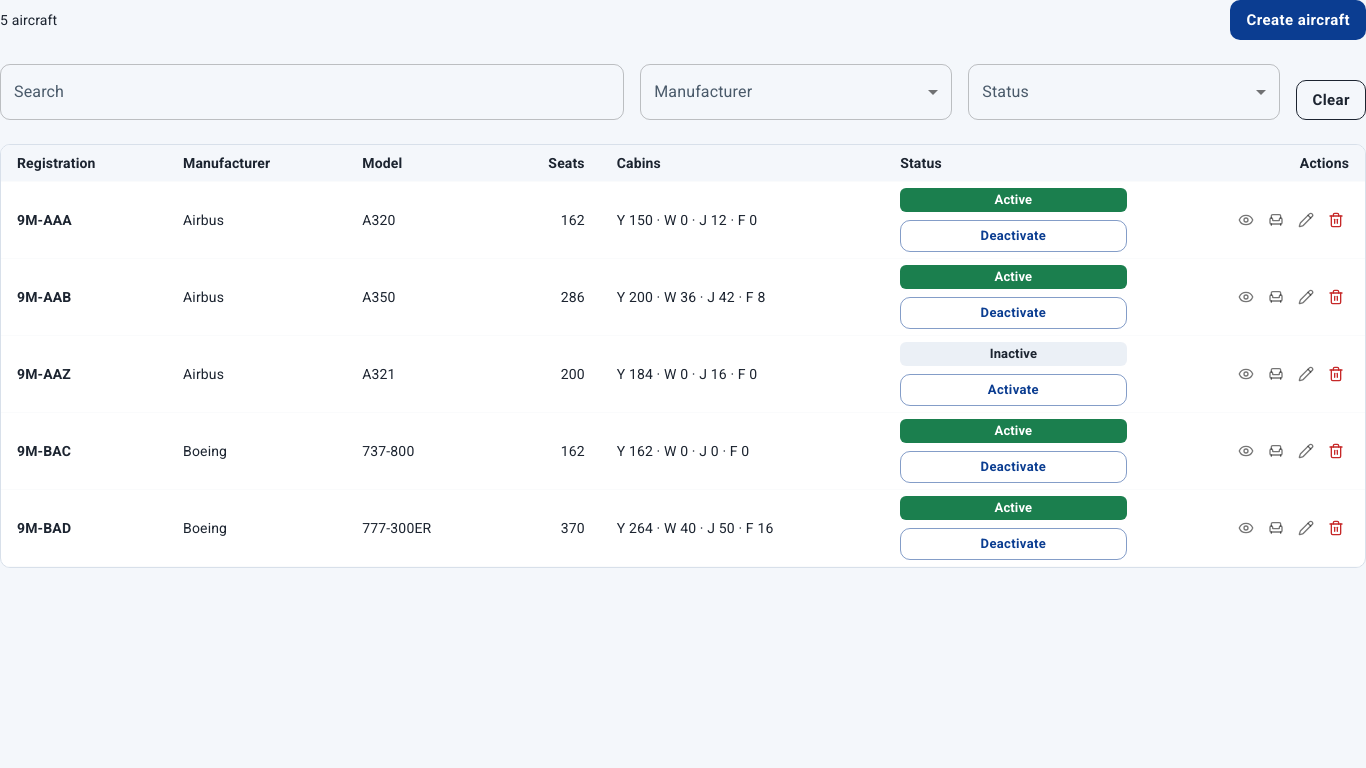
Scenario: AdminAircraftView › edits an aircraft and can cancel the dialog
Expected: the text "9M-AAA" is shown, [17,212,72,228]
Click the button named "Edit 9M-AAA".
click(1306, 220)  # box [1293,207,1319,233]
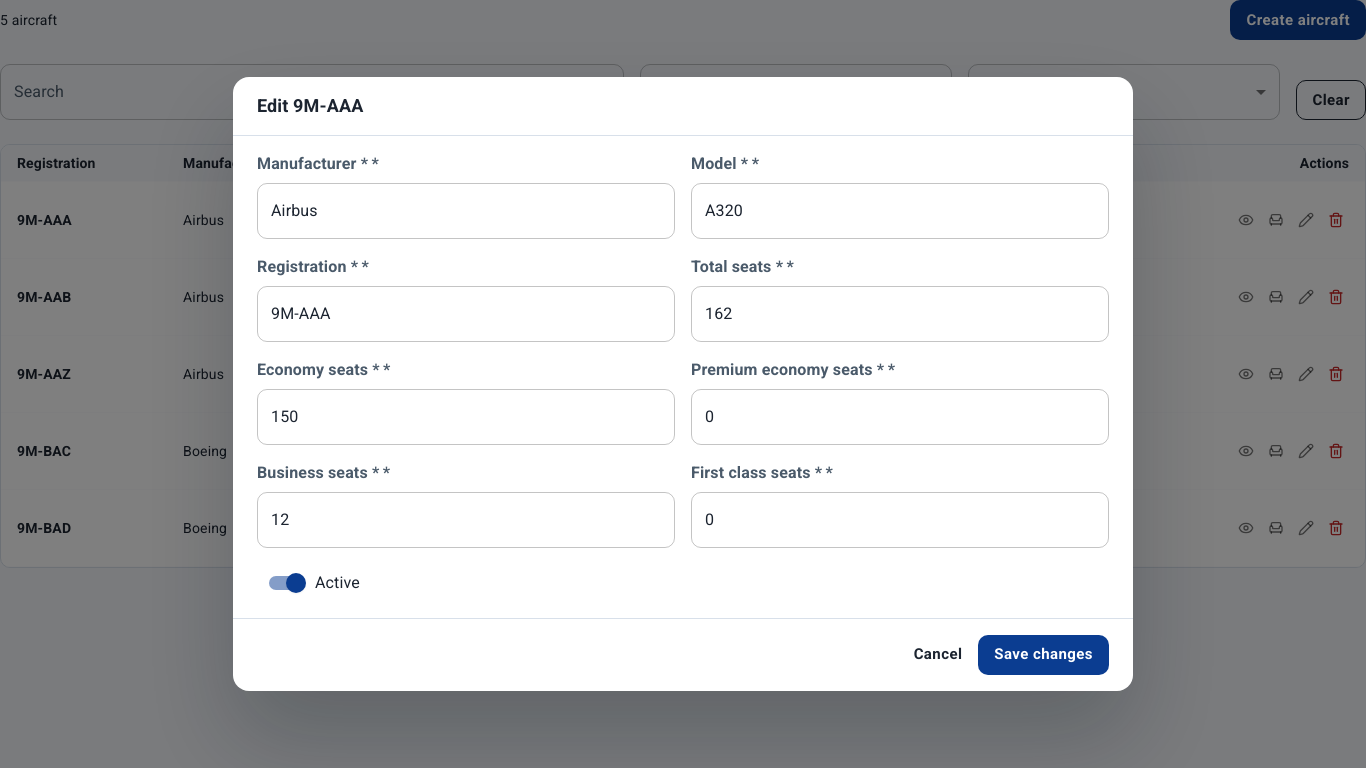
Expected: the heading "Edit 9M-AAA" is shown, [257,95,363,116]
Type "A320neo" into the field with placeholder "A320".
click(900, 211); type("A320neo")  # box [691,183,1109,239]
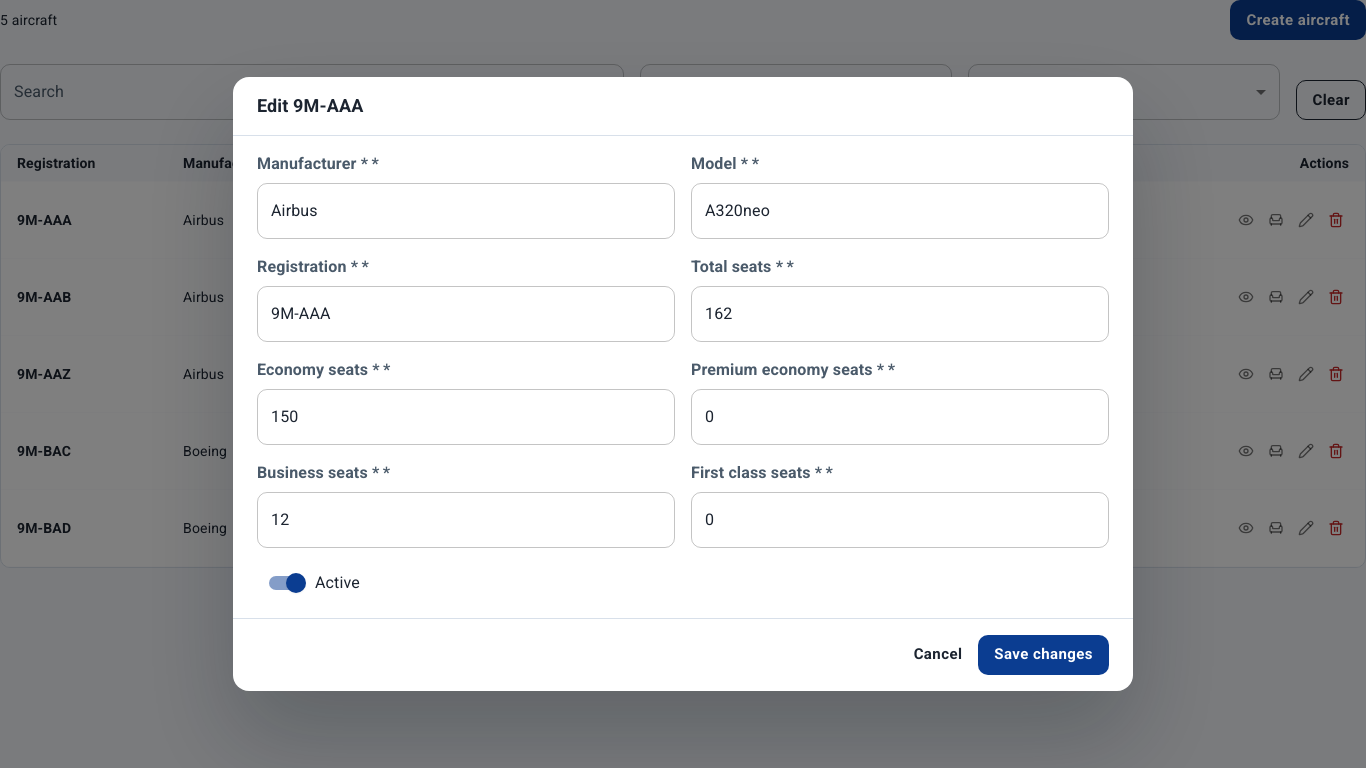
Click the button "Save changes".
click(1044, 655)  # box [978,635,1109,675]
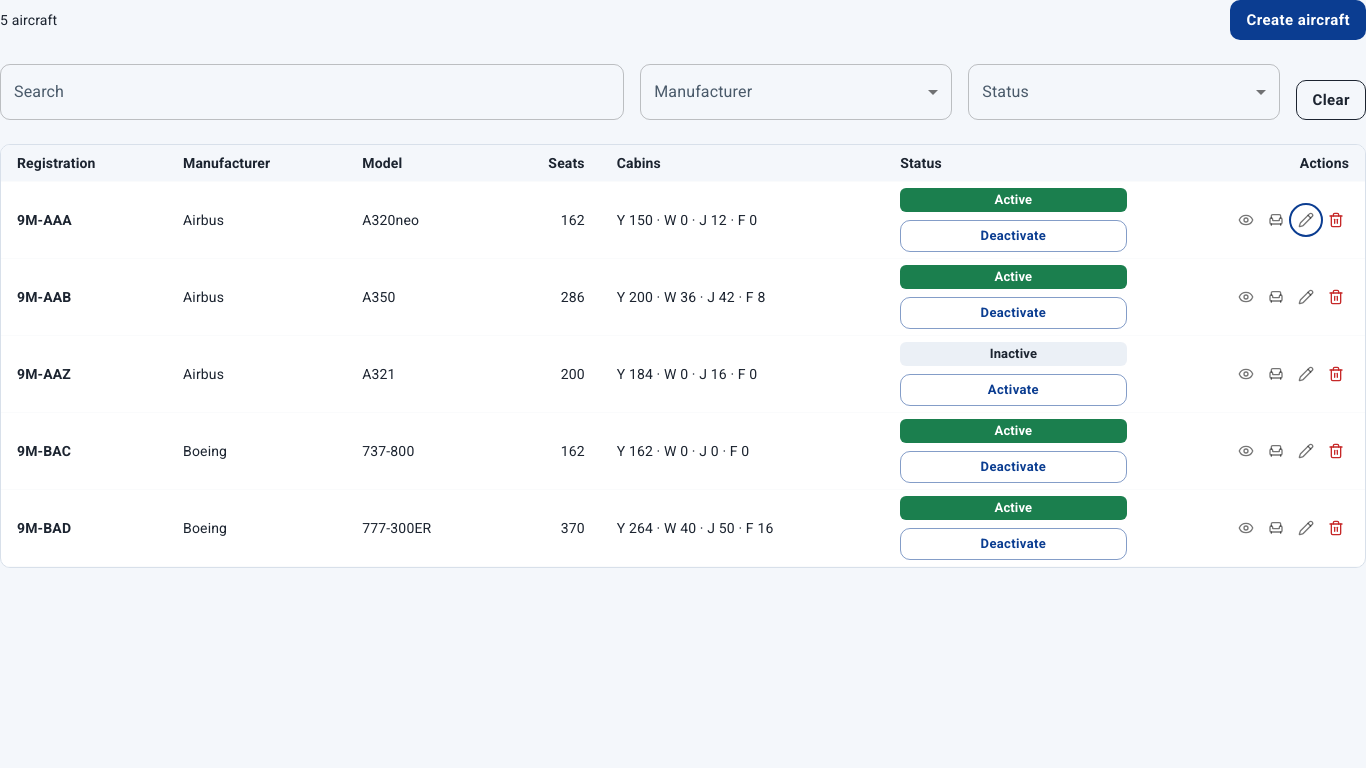
Expected: the dialog is gone
Click the button named "Edit 9M-AAA".
click(1306, 220)  # box [1293,207,1319,233]
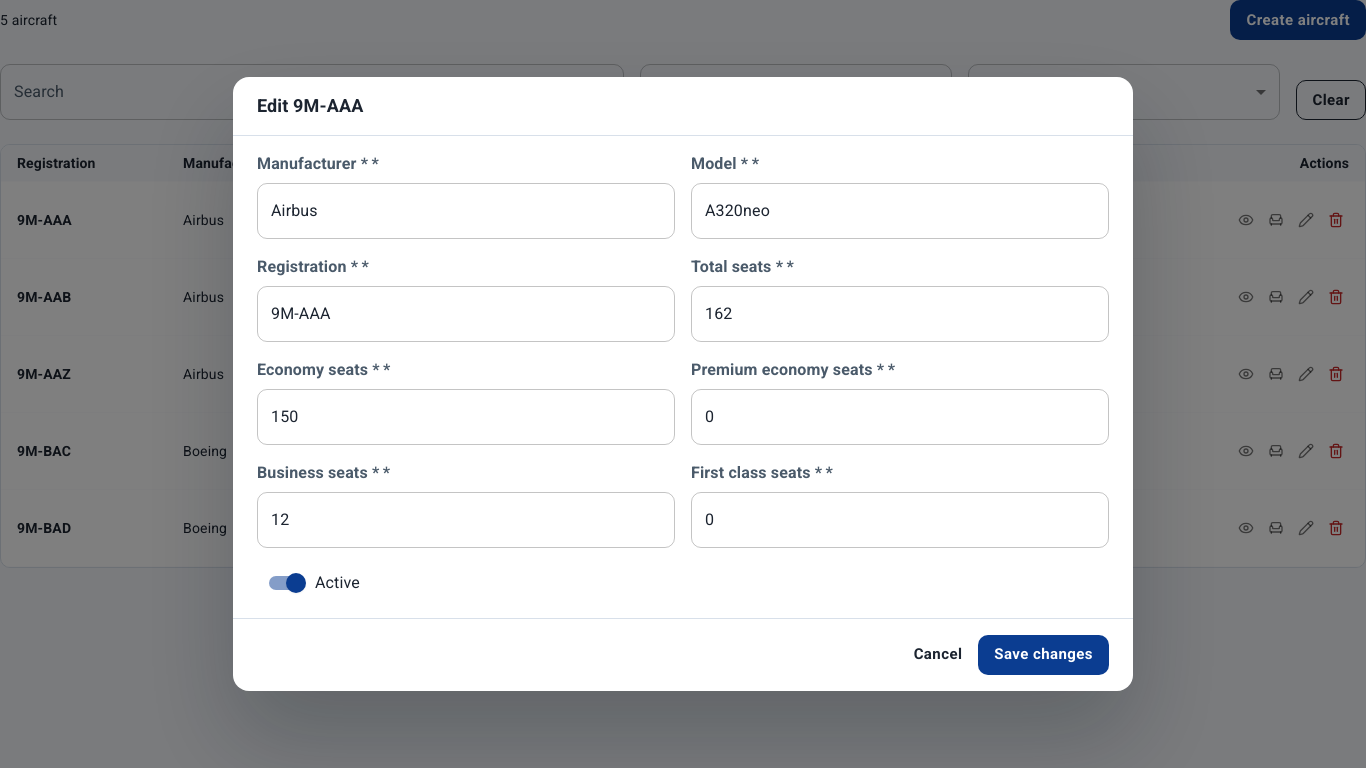
Click the button "Cancel".
click(938, 655)  # box [906,635,970,675]
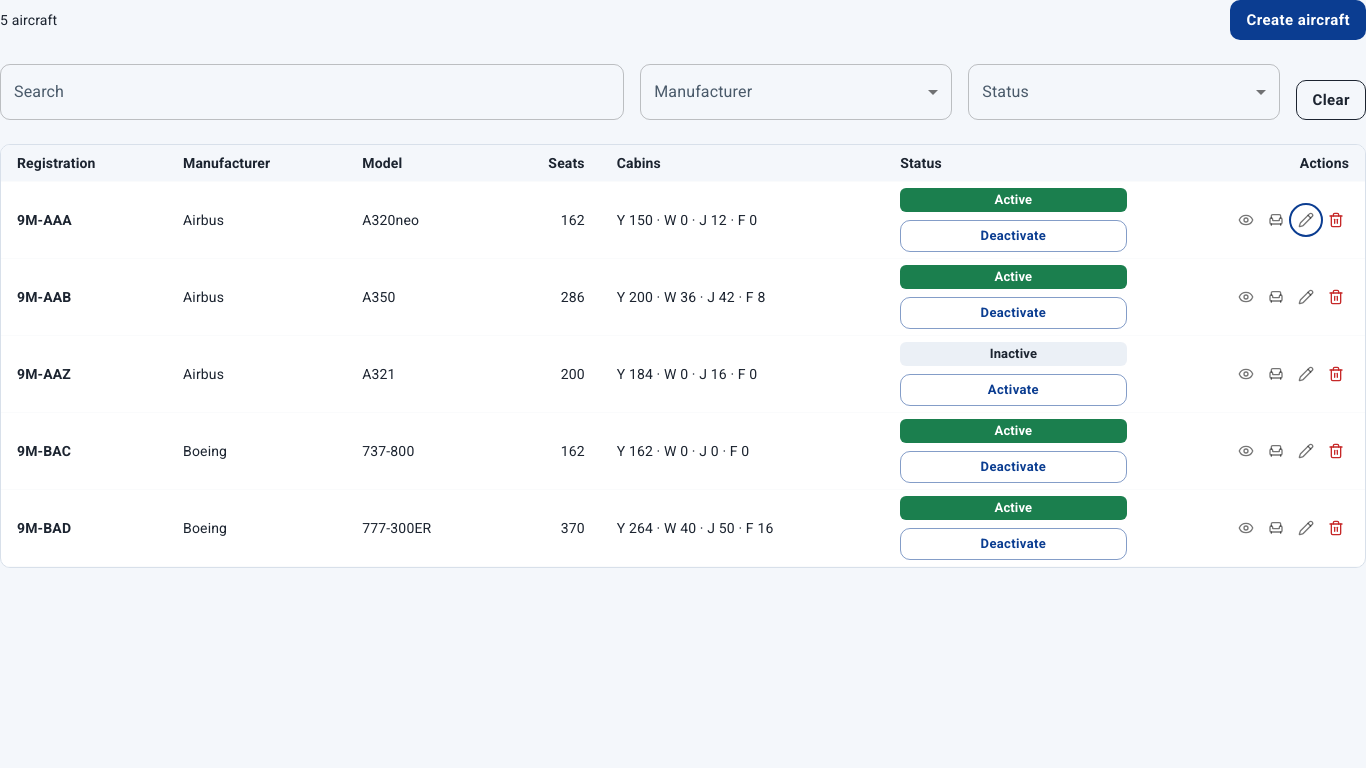
Expected: the dialog is gone
